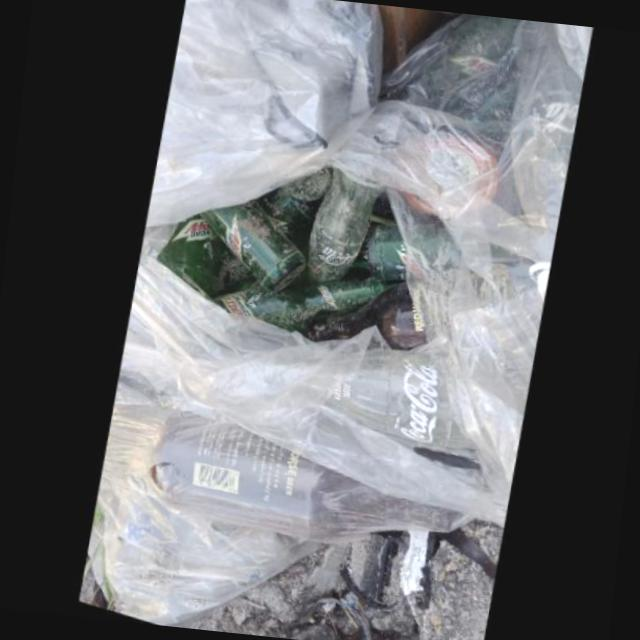chai_thuy_tinh: (265, 344, 478, 442), (203, 197, 309, 290), (311, 163, 389, 283), (214, 275, 388, 328), (305, 276, 431, 345), (165, 211, 222, 291), (369, 220, 410, 276)
